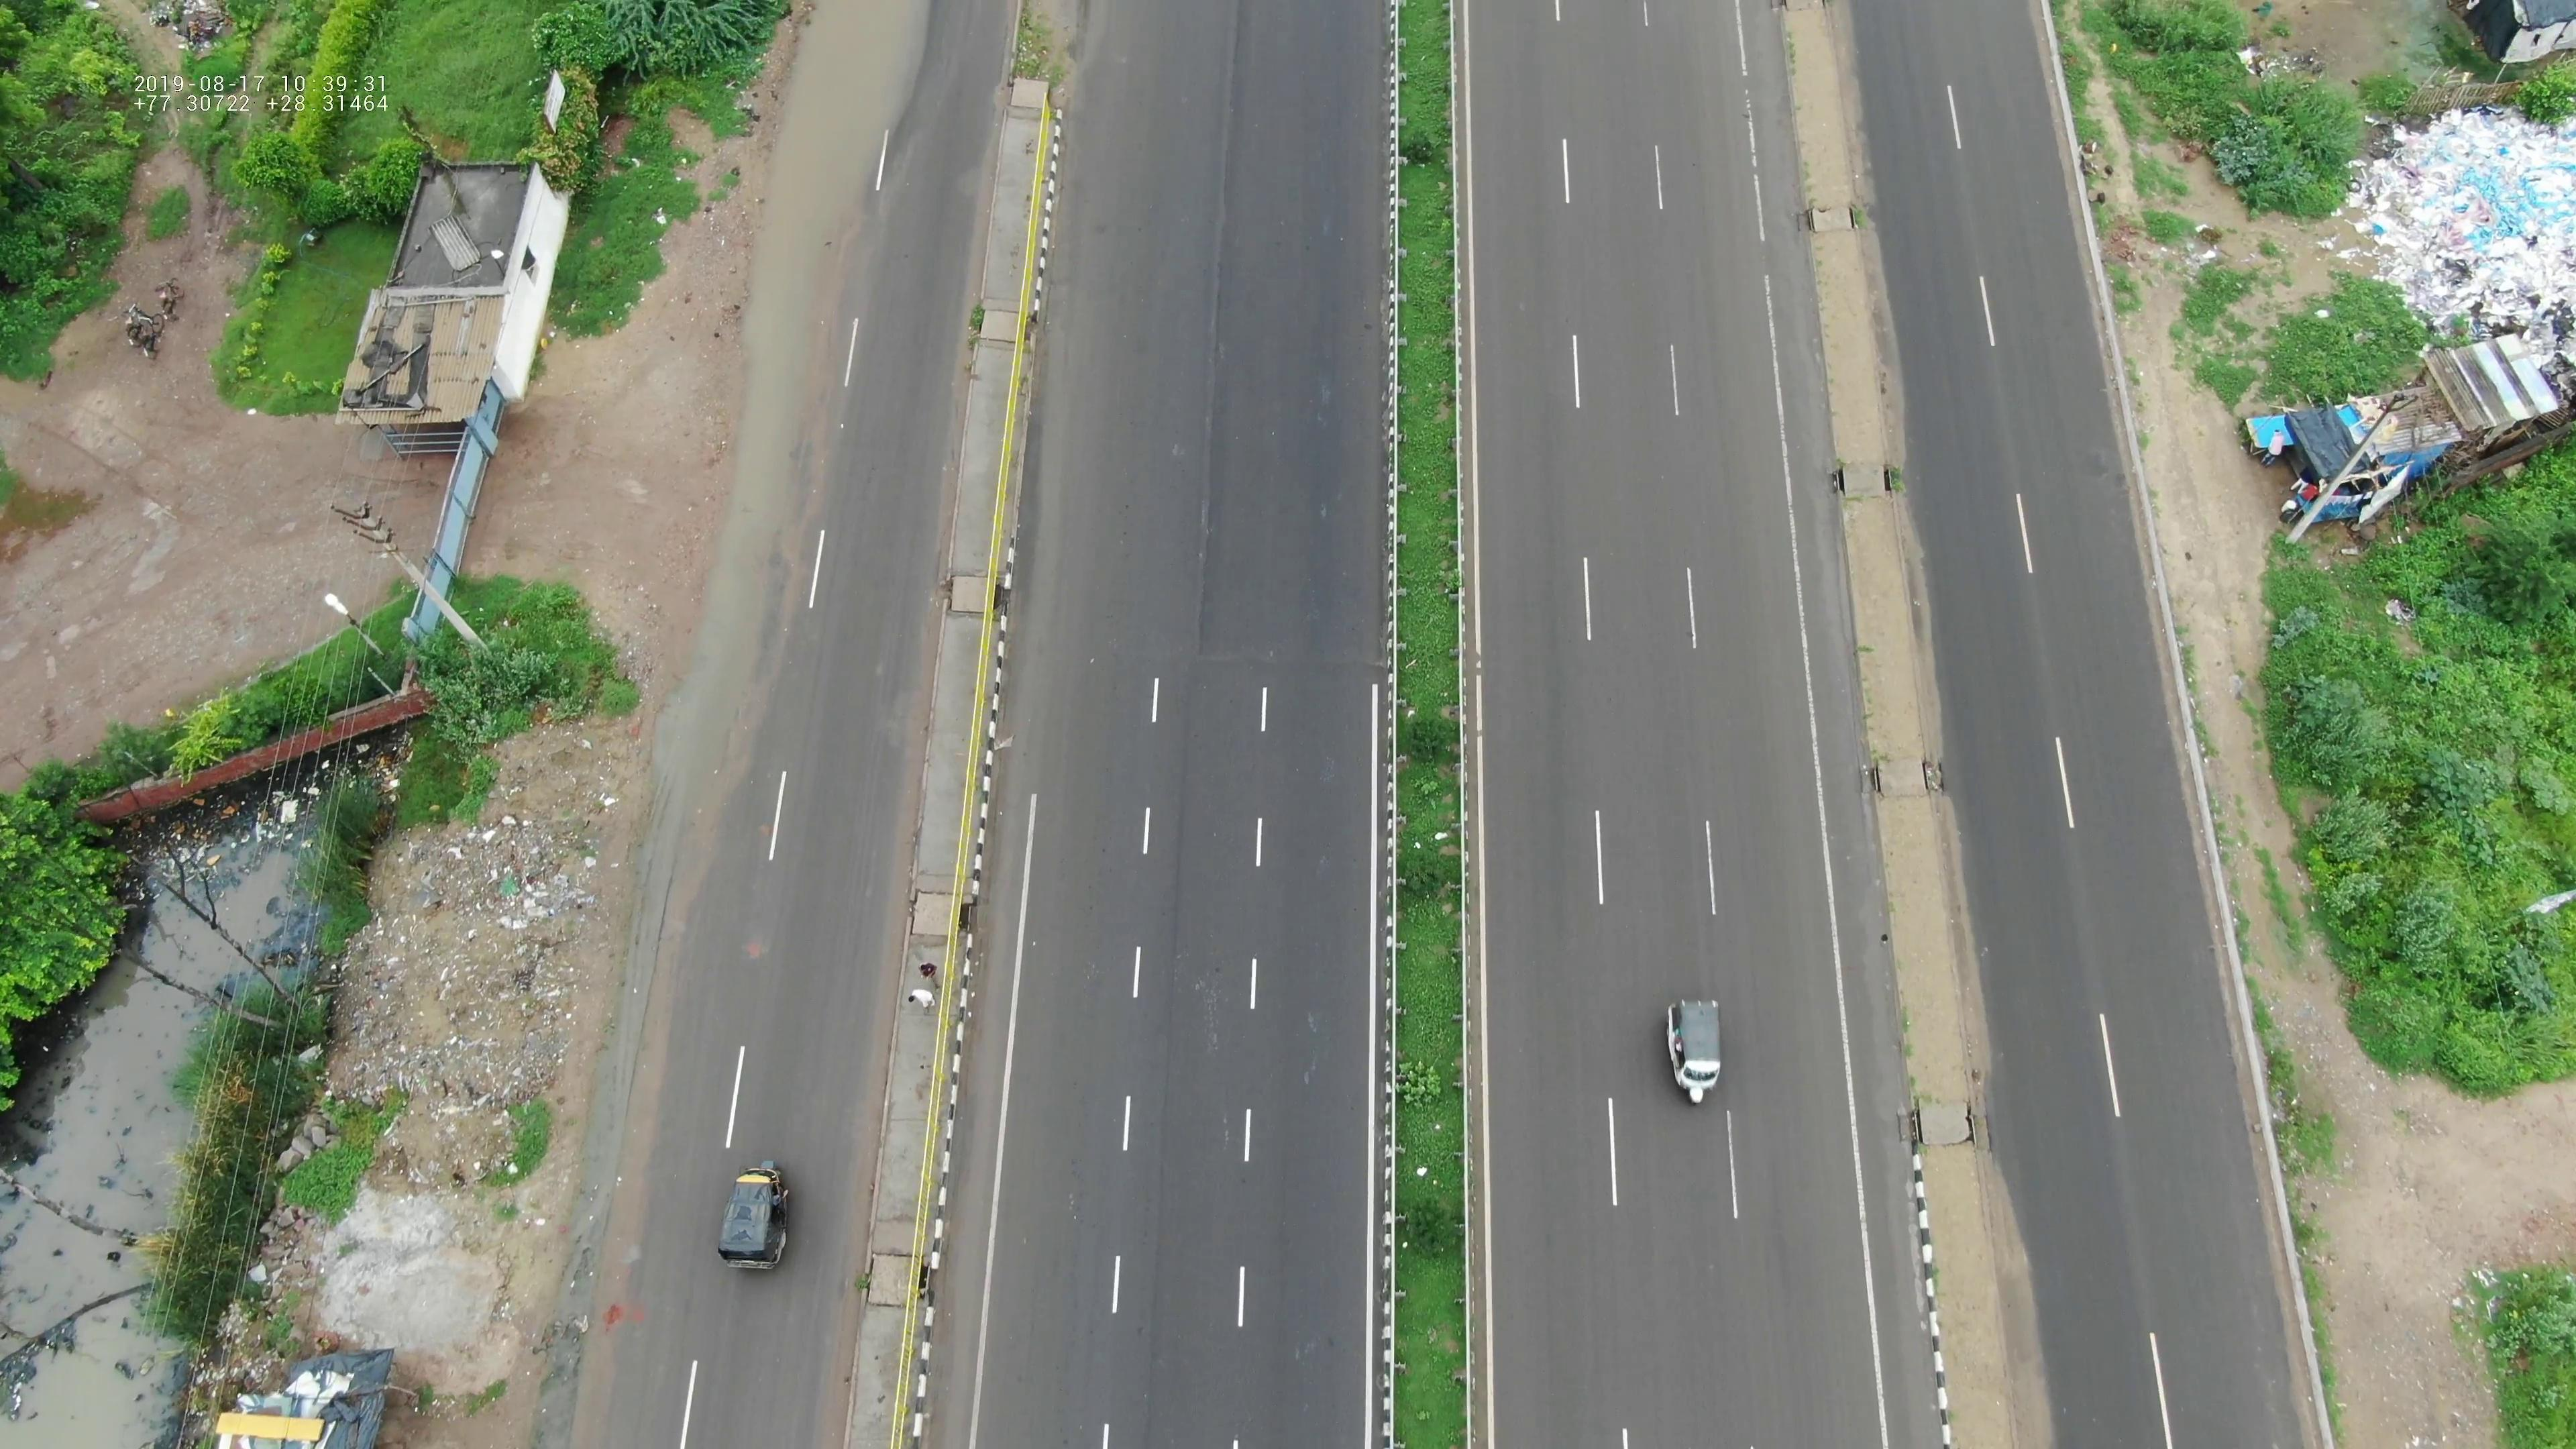Waterlogging: (695, 212, 858, 692), (755, 2, 934, 278), (609, 697, 725, 1077)
